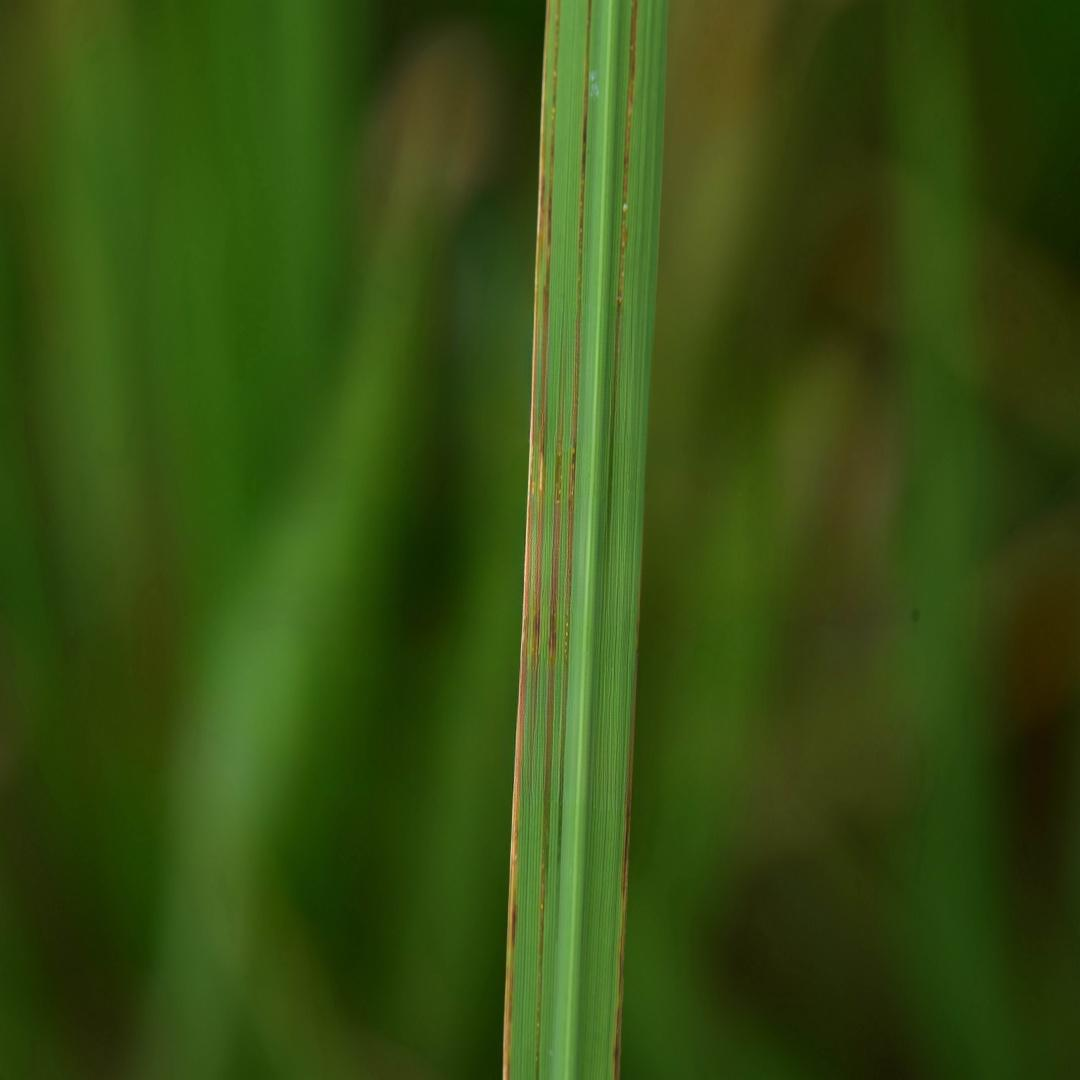BLS: (504, 0, 561, 1079), (561, 0, 592, 753), (536, 351, 564, 1079), (614, 0, 637, 413), (615, 652, 637, 1079)
LEAF: (503, 0, 667, 1079)
